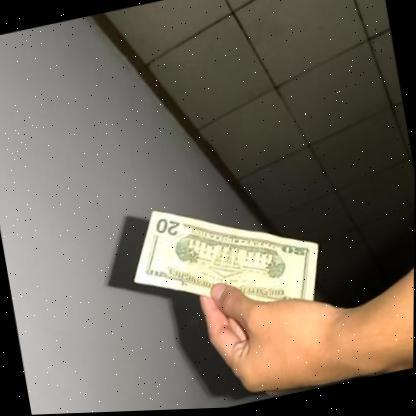twenty-back: (120, 178, 330, 338)
